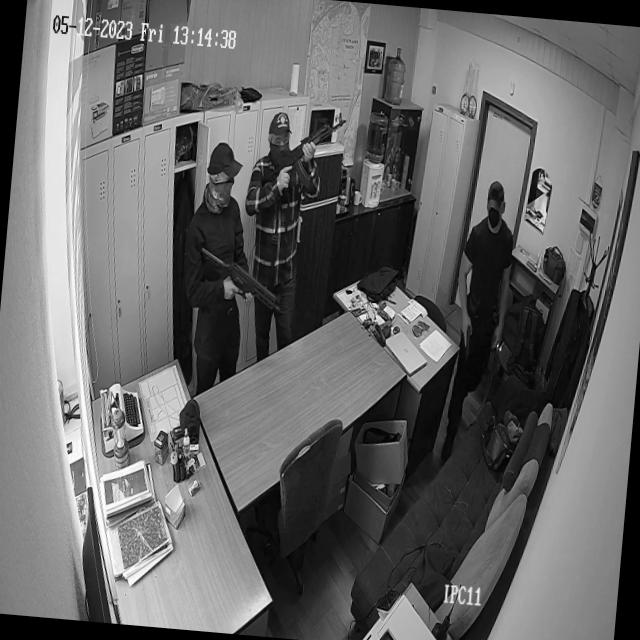gun: (261, 102, 348, 185), (196, 237, 286, 315), (461, 321, 474, 361)
person with a gun: (447, 178, 518, 451), (178, 138, 260, 374), (240, 111, 312, 348)
